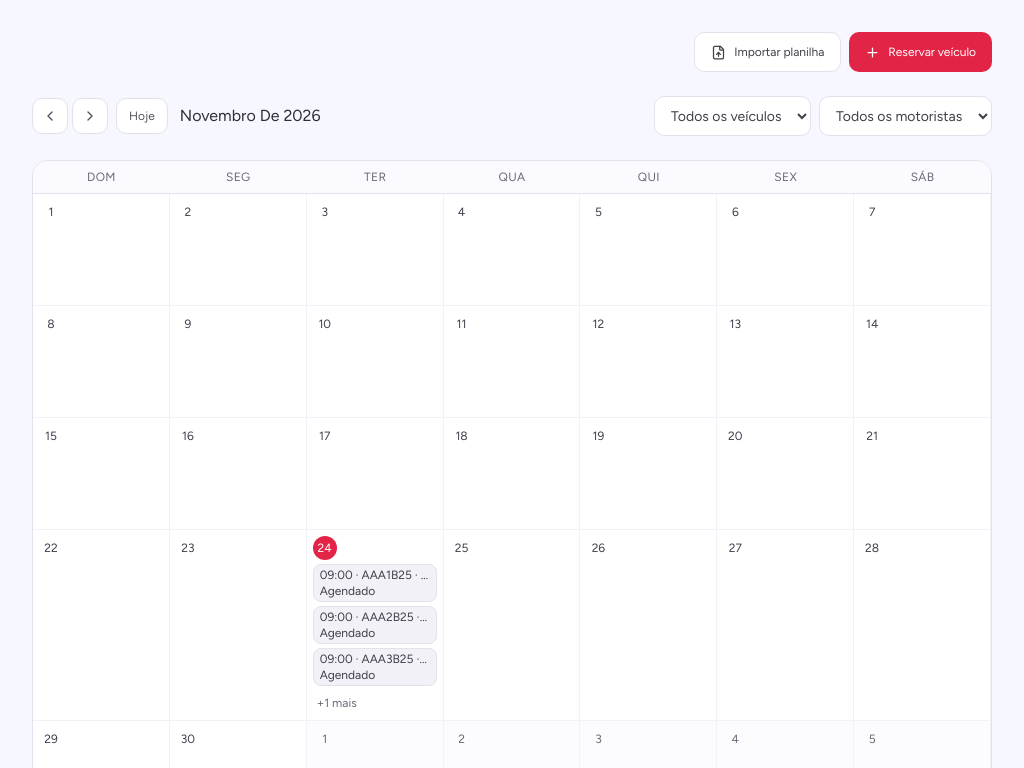
Scenario: Agenda: +N mais › ao fechar o detalhe aberto pela lista do dia, o foco volta ao '+N mais'
What coordinates should you click on to do the following:
click the button "+1 mais"
I would click on:
 (337, 703)
Its box is 313,695 -> 361,711.
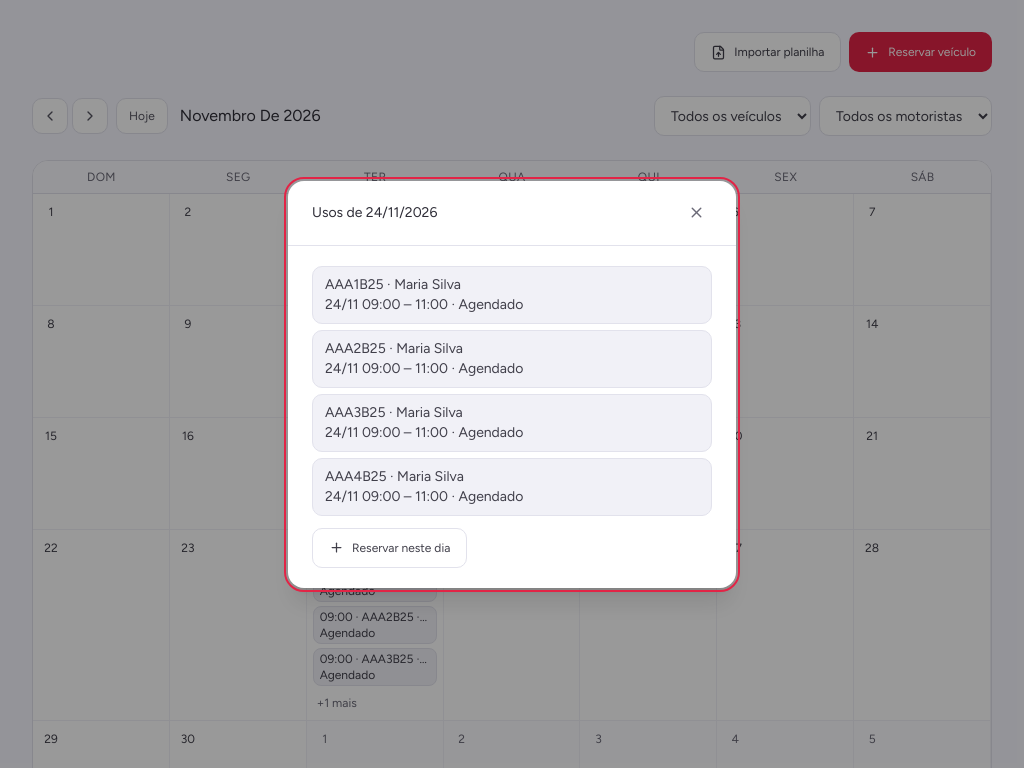
What coordinates should you click on to do the following:
click the button "AAA4B25 · Maria Silva 24/11 09:00 – 11:00 · Agendado"
I would click on:
 (512, 486)
Its box is 312,458 -> 712,516.
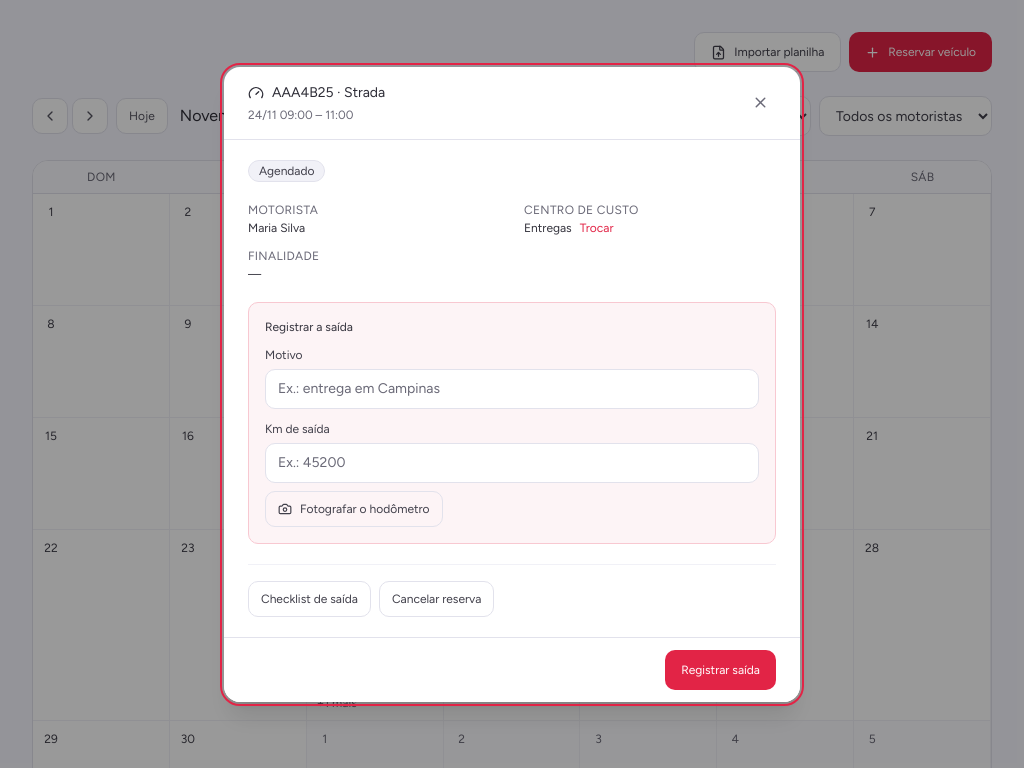
What coordinates should you click on to do the following:
click the button named "Fechar"
I would click on:
 (760, 102)
Its box is 744,86 -> 776,118.
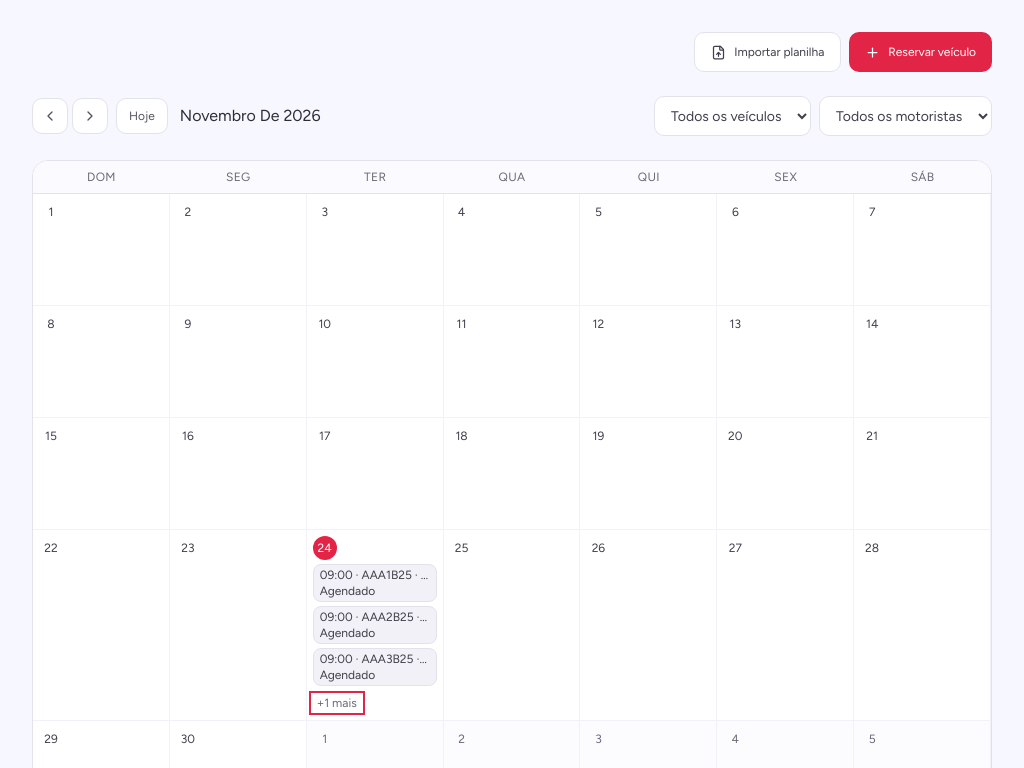
Now the dialog is gone
